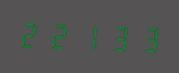one: (74, 19, 101, 53)
three: (102, 20, 129, 54), (130, 21, 157, 55)
two: (18, 17, 45, 51), (46, 18, 73, 52)
